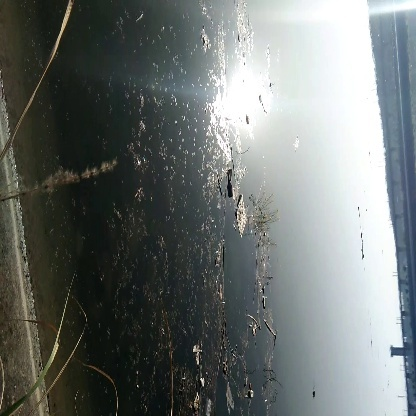plastic-garbage: (232, 191, 257, 244)
